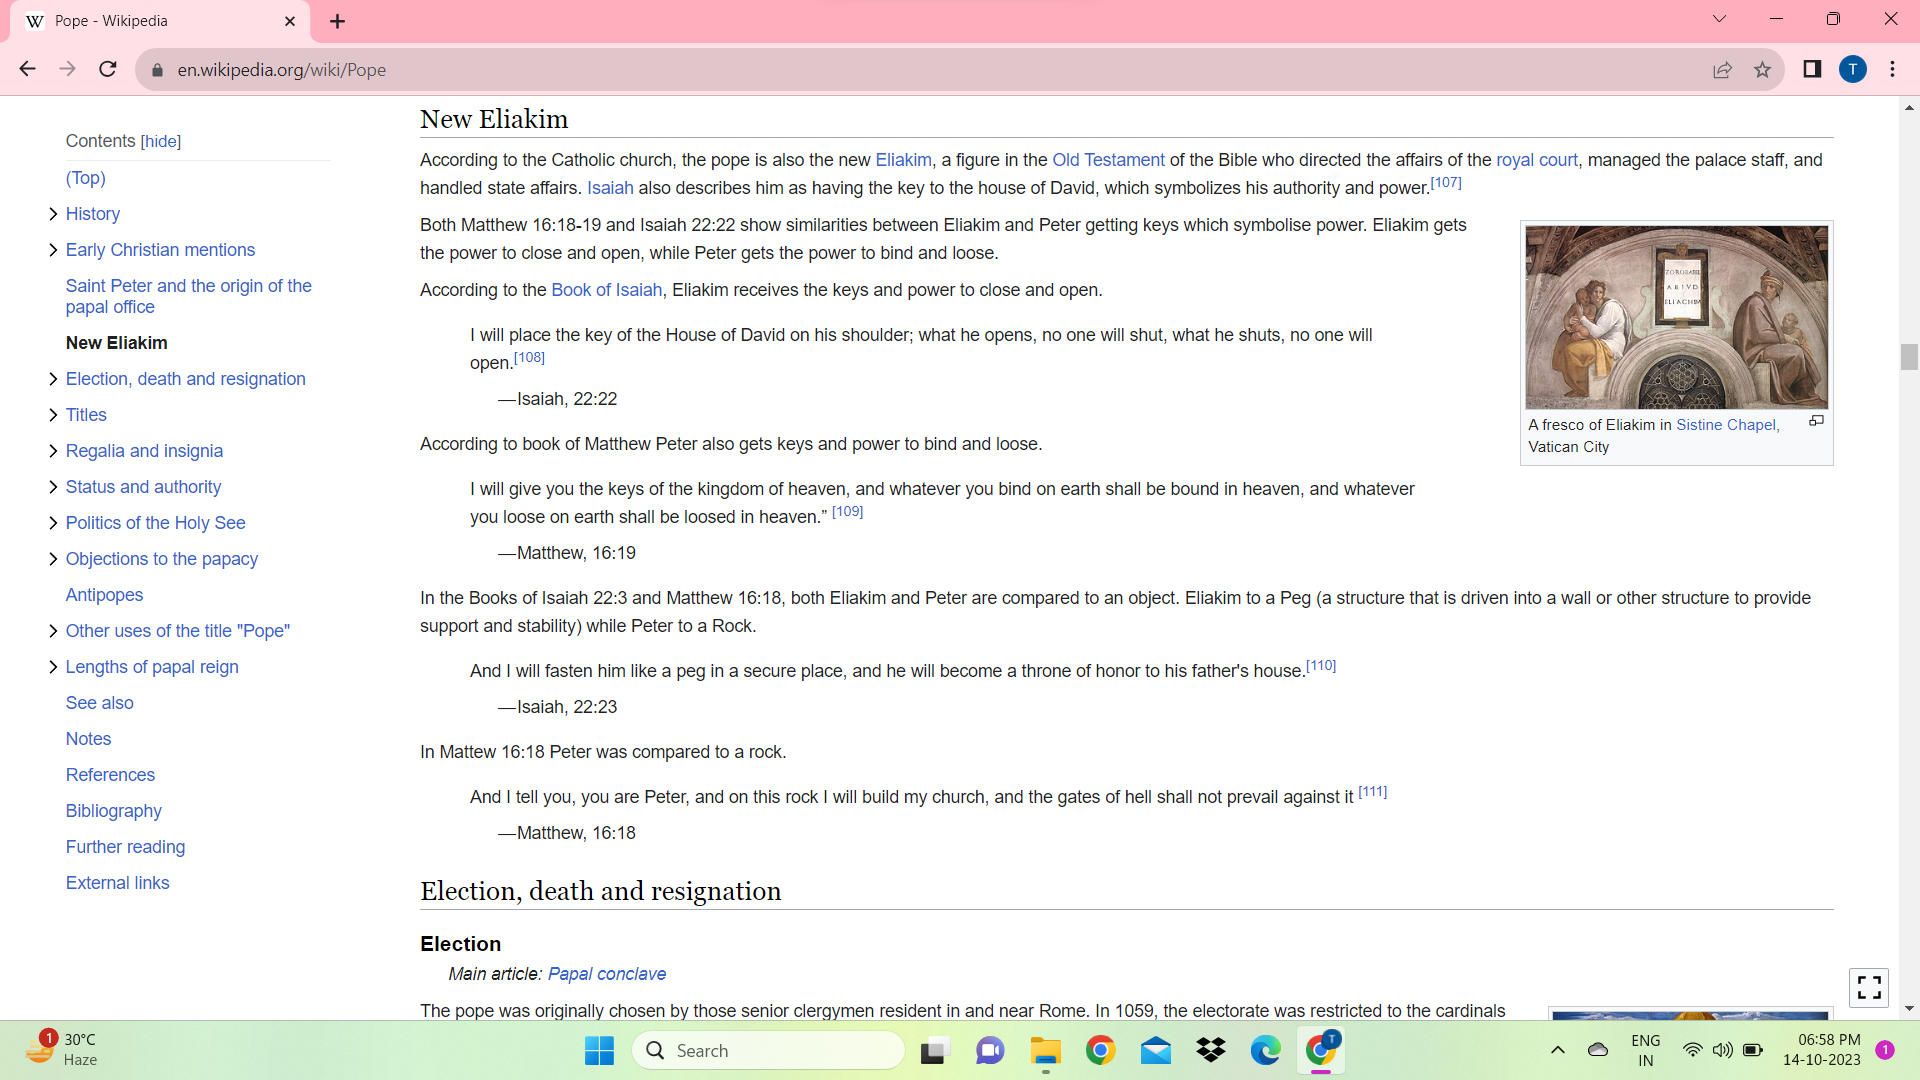Image: (1519, 216, 1828, 414)
Paragraph: (397, 572, 1869, 766), (406, 237, 1431, 418), (407, 427, 1486, 563), (404, 136, 1851, 233), (407, 777, 1456, 906), (394, 986, 1514, 1018), (61, 269, 332, 322), (58, 537, 276, 574), (58, 617, 309, 645), (410, 102, 576, 142), (58, 435, 241, 462), (65, 119, 199, 153), (404, 922, 518, 960), (57, 865, 175, 895), (58, 757, 175, 787), (61, 686, 142, 716)
